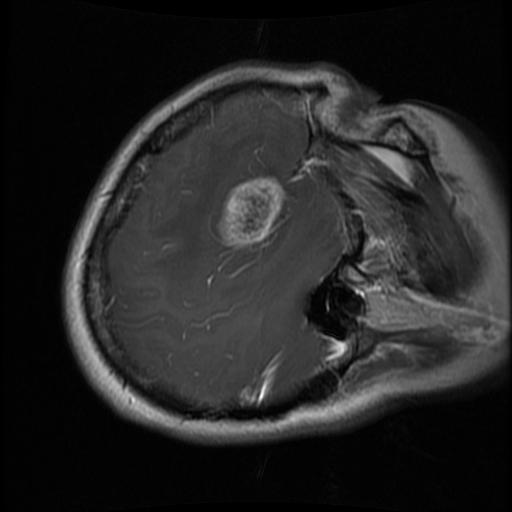glioma: (217, 176, 285, 249)
